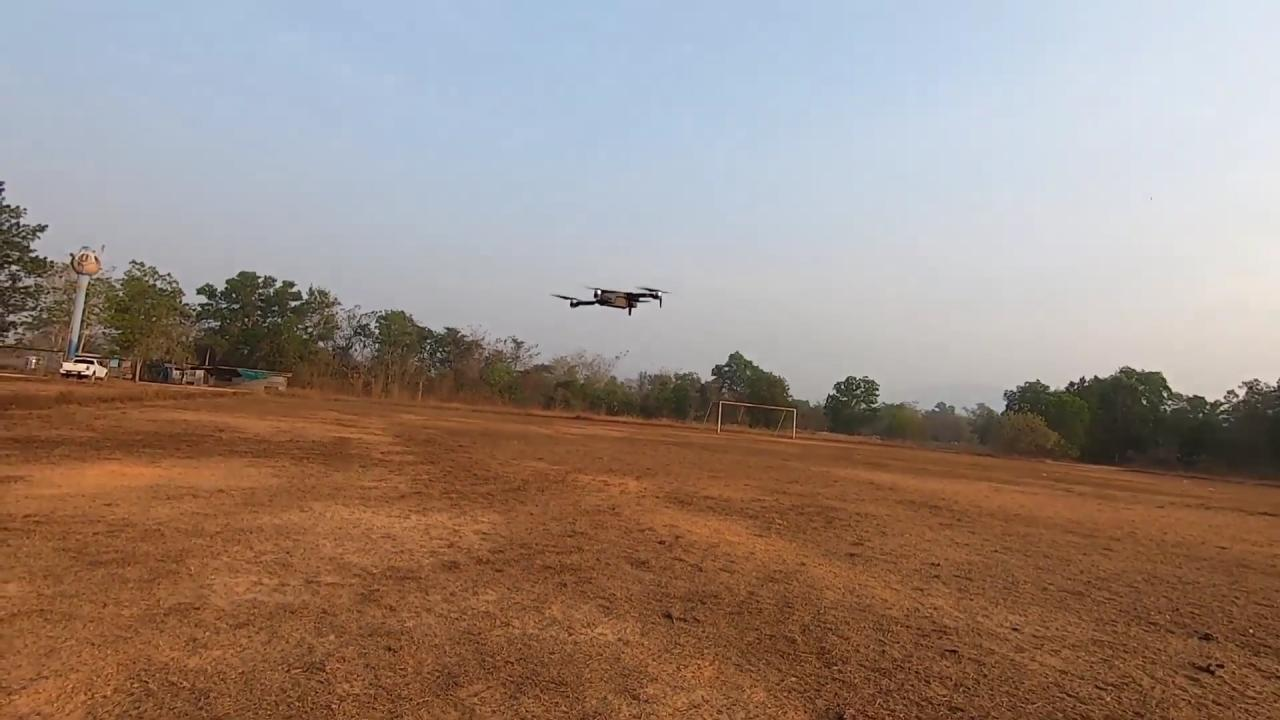Drone: (543, 269, 677, 322)
